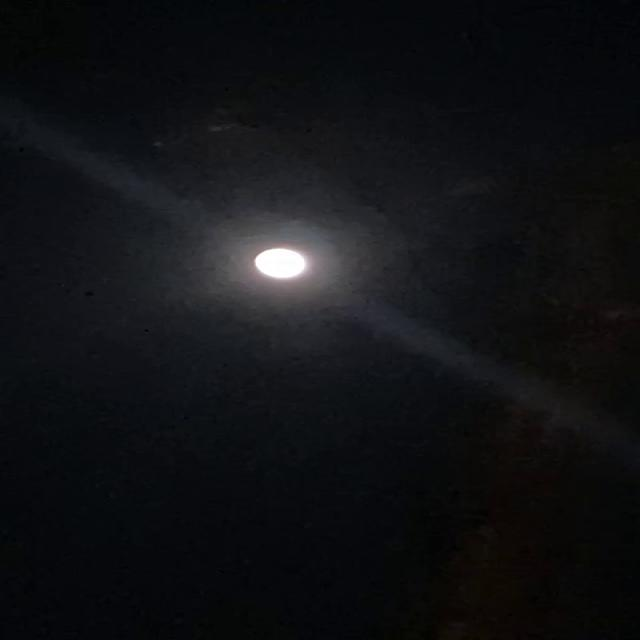moon: (237, 227, 364, 298)
